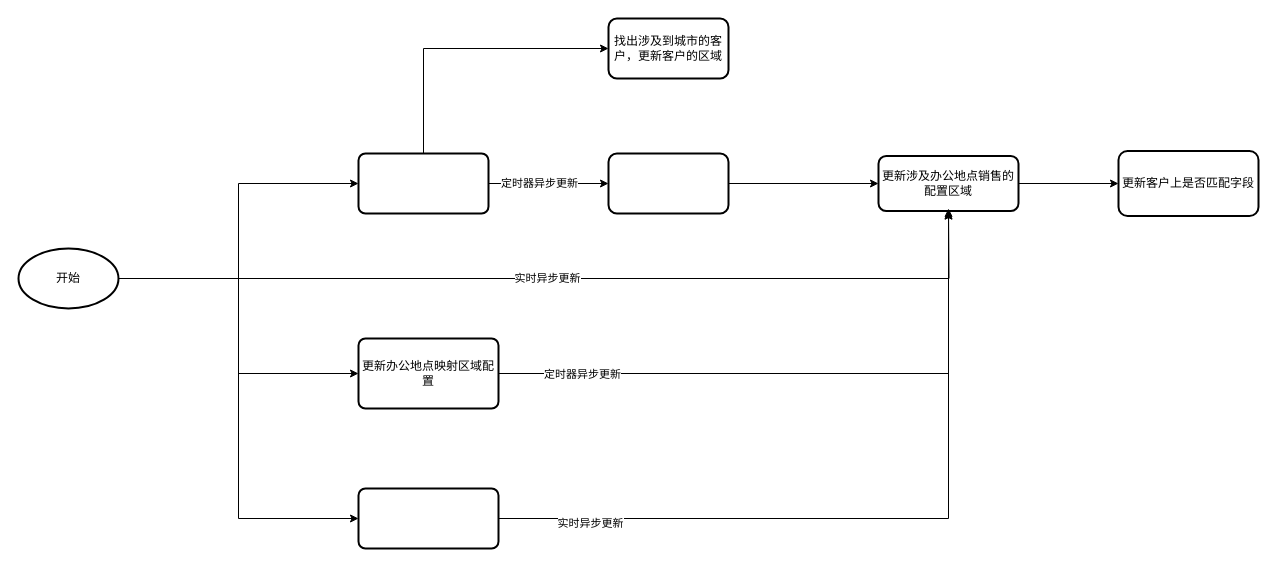
Some shapes in this 1276 by 566 pixel diagram are drawn without their labels. Each missing label, with the box of its shape:
找出涉及到映射配置的办公地点: (607, 152, 729, 214)
更新销售的办公地点: (357, 487, 499, 549)
更新集团区域配置: (357, 152, 489, 214)
